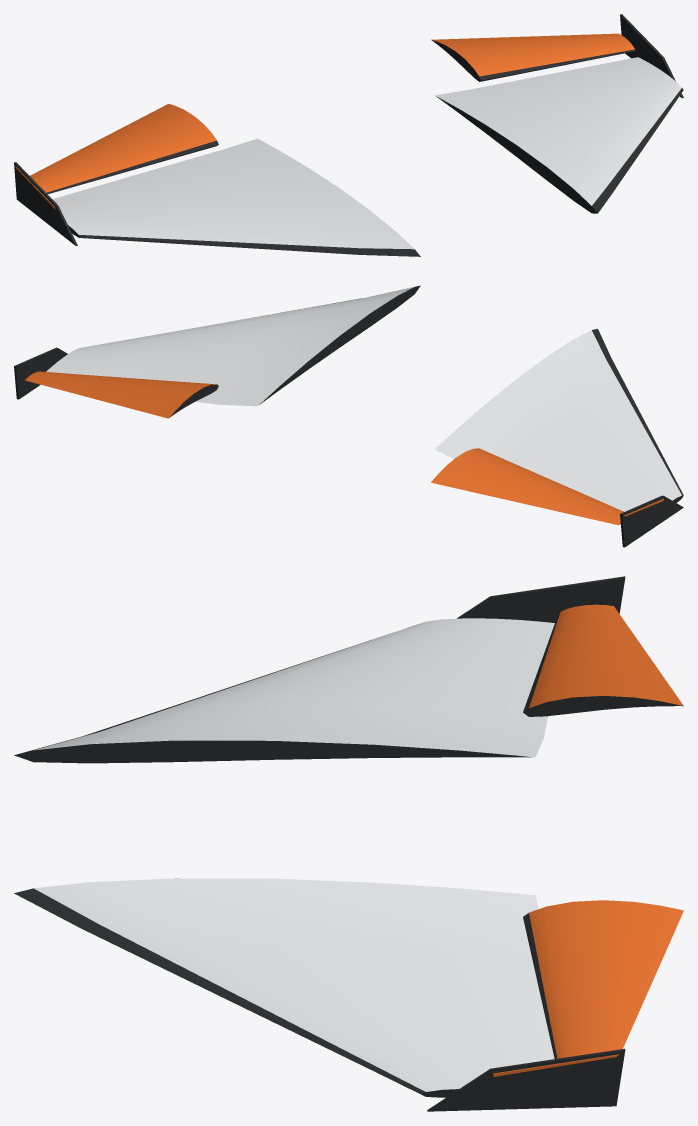
Rendered from nomad_wing_ep.fbx.
The picture shows the model from 3 angles, top to bottom: view 1: azimuth 30°, elevation 25°; view 2: azimuth 150°, elevation 25°; view 3: azimuth 270°, elevation 25°; orthographic projection. The views are drawn at different scales.
Visible parts, largest first — view 1: Wing_Slotted_L, Wing_Slotted_R; view 2: Wing_Slotted_L, Wing_Slotted_R; view 3: Wing_Slotted_R, Wing_Slotted_L.
Part boxes in pixels (x1,y1,x2,y2): Wing_Slotted_L: [14, 104, 420, 256]; Wing_Slotted_R: [431, 14, 683, 213]; Wing_Slotted_L: [431, 328, 683, 547]; Wing_Slotted_R: [14, 285, 420, 418]; Wing_Slotted_R: [14, 878, 683, 1111]; Wing_Slotted_L: [14, 576, 683, 763].
Size of the model in its own units: 386 by 29.08 by 230.
